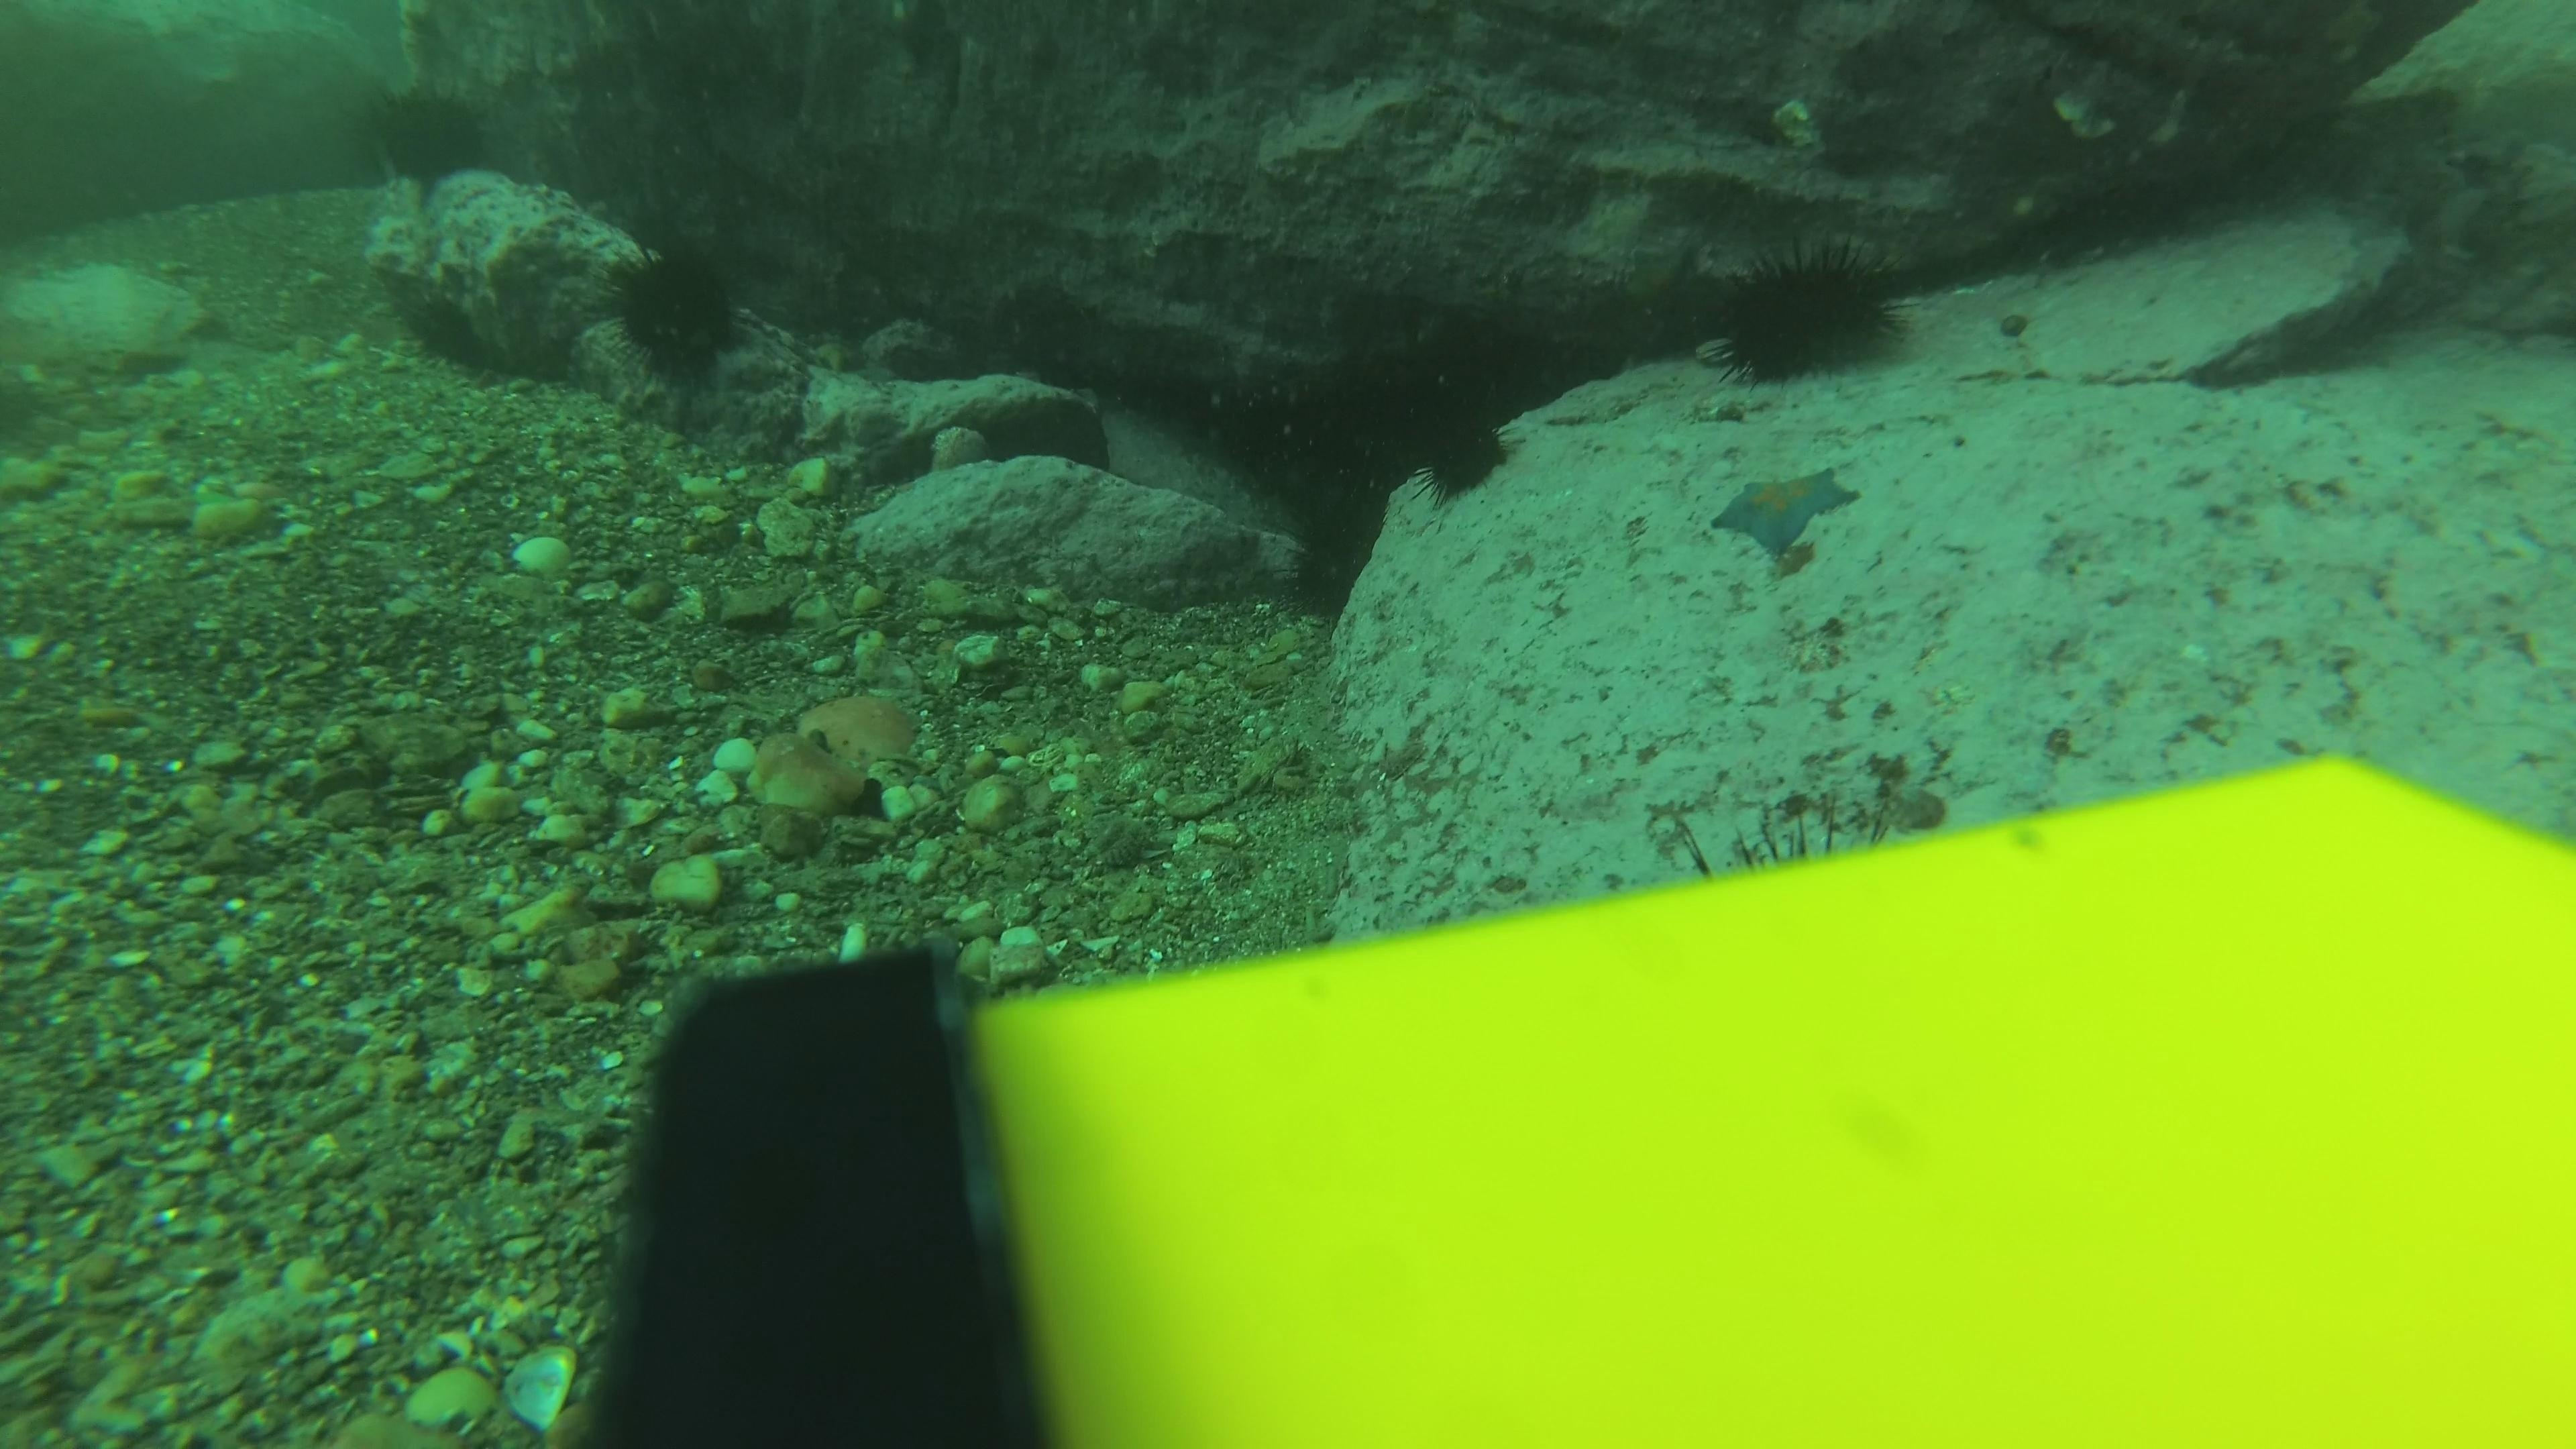echinus: (1700, 235, 1916, 391), (600, 235, 754, 384), (359, 80, 497, 193), (1403, 384, 1523, 504)
starfish: (1702, 460, 1867, 564)
